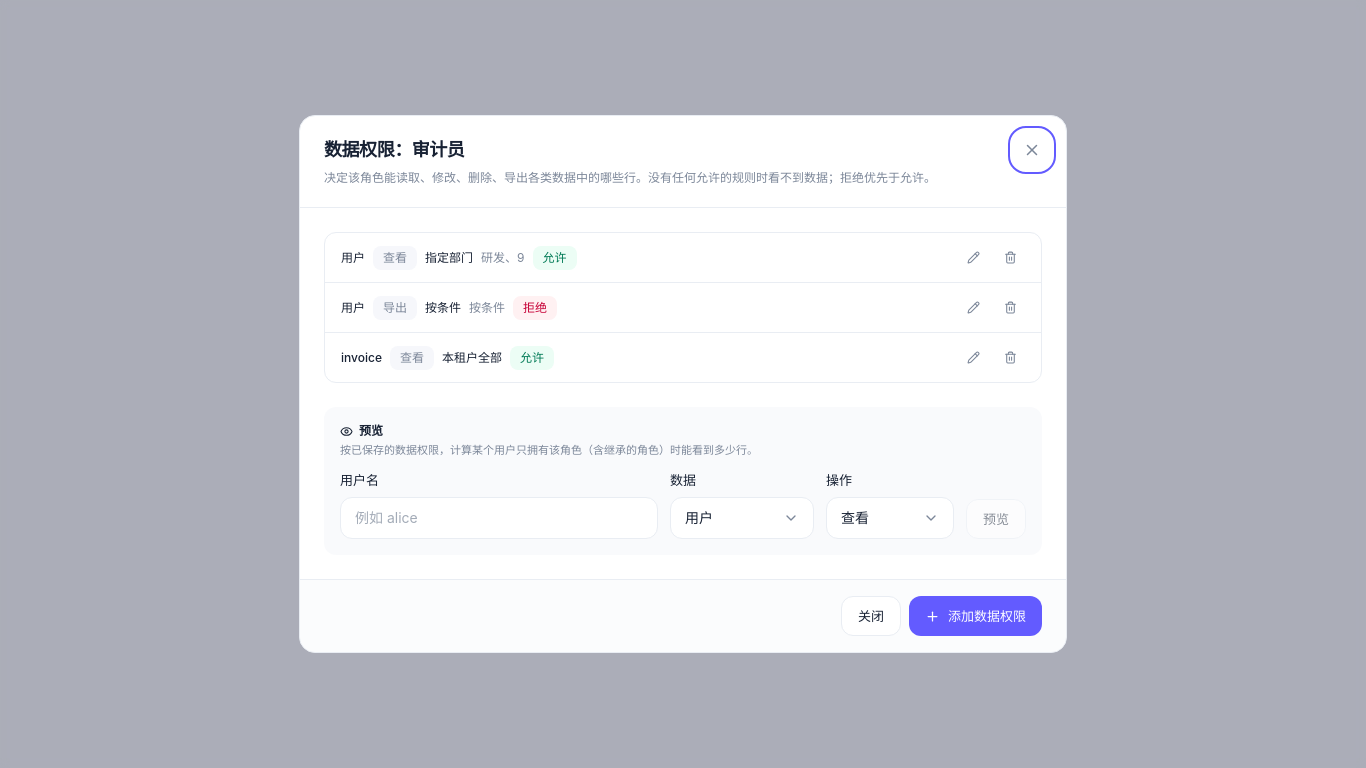
Test: role data policies › previews what a user would see with only this role
The width and height of the screenshot is (1366, 768).
Type "alice" into the field with placeholder "例如 alice".
click(499, 518); type("alice")  # box 340,497 -> 658,539
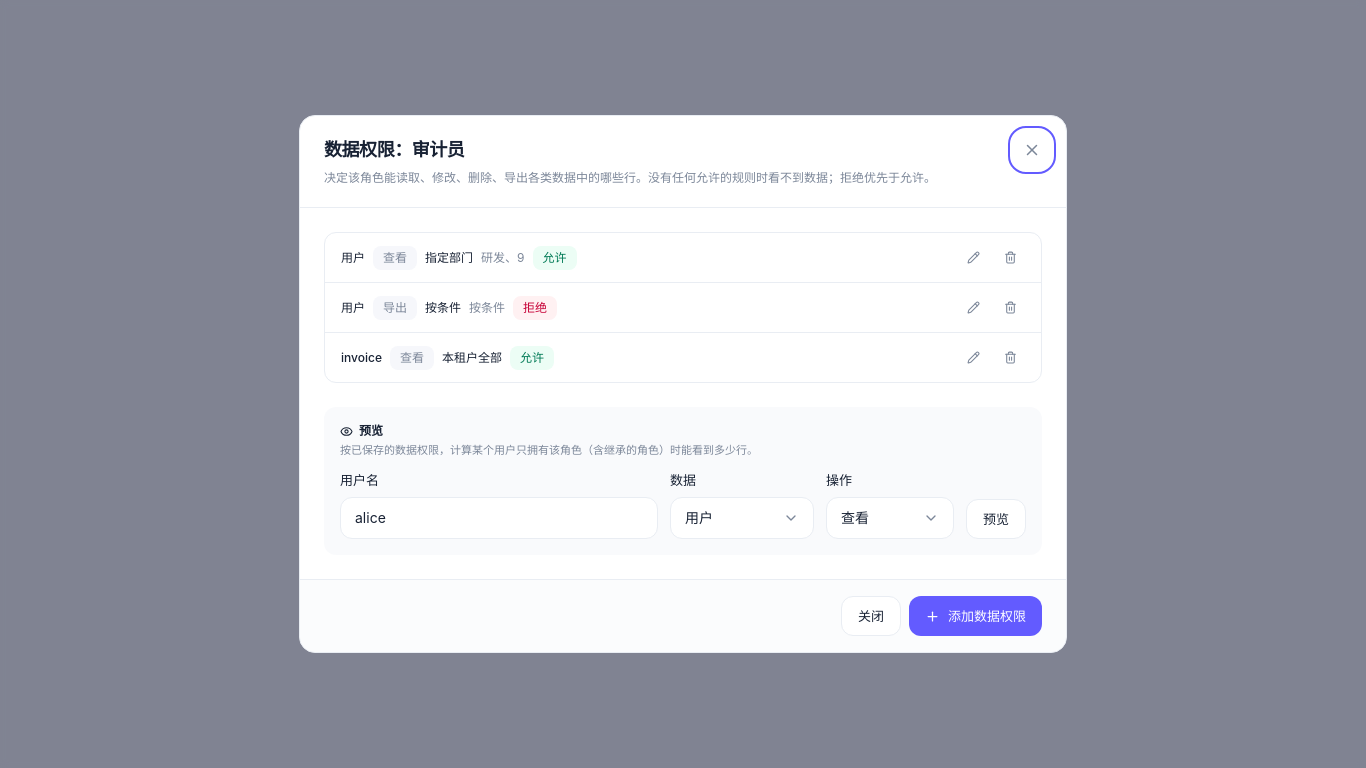
Click the button "预览".
click(996, 519)  # box 966,499 -> 1026,539
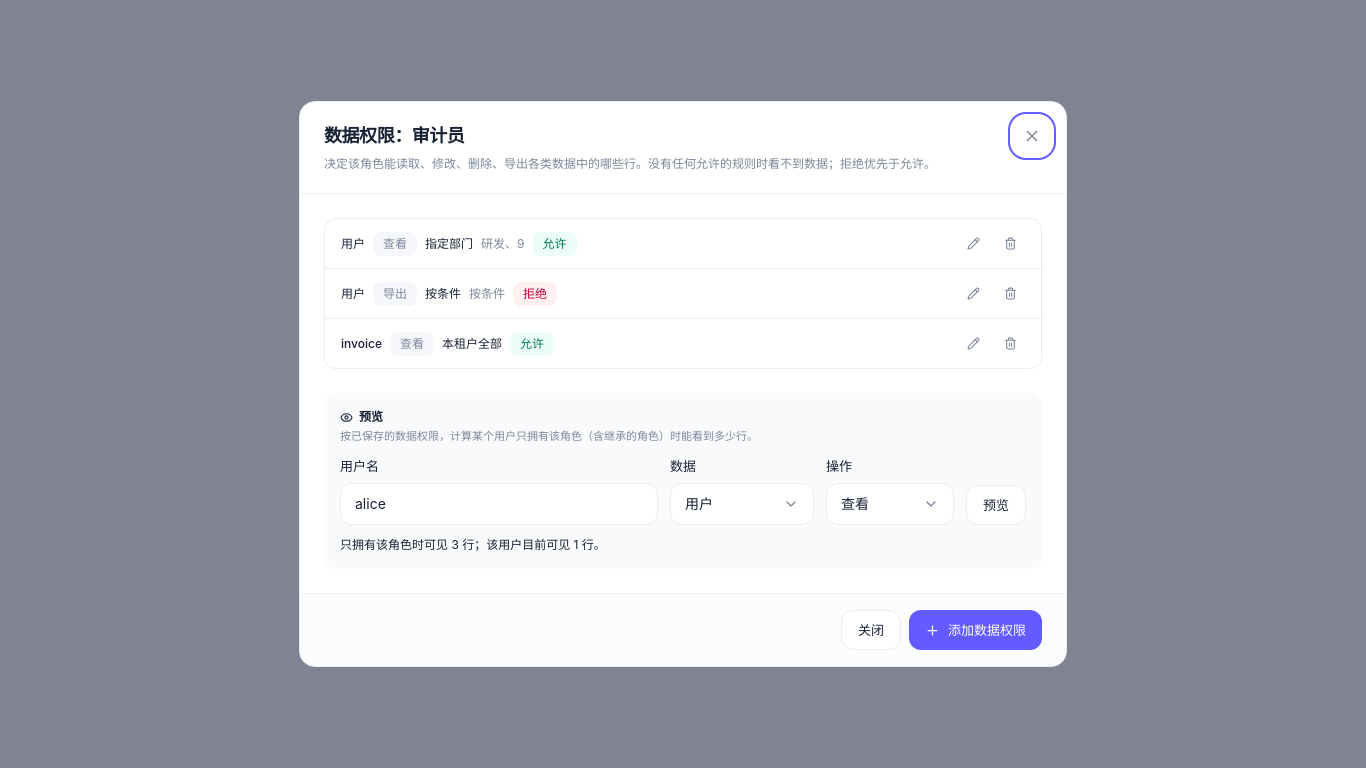
Expected: the message "只拥有该角色时可见 3 行；该用户目前可见 1 行。" is shown, 340,537 -> 606,552
Replace the text in the field with placeholder "例如 alice" with "nobody" at (499, 504), box 340,483 -> 658,525
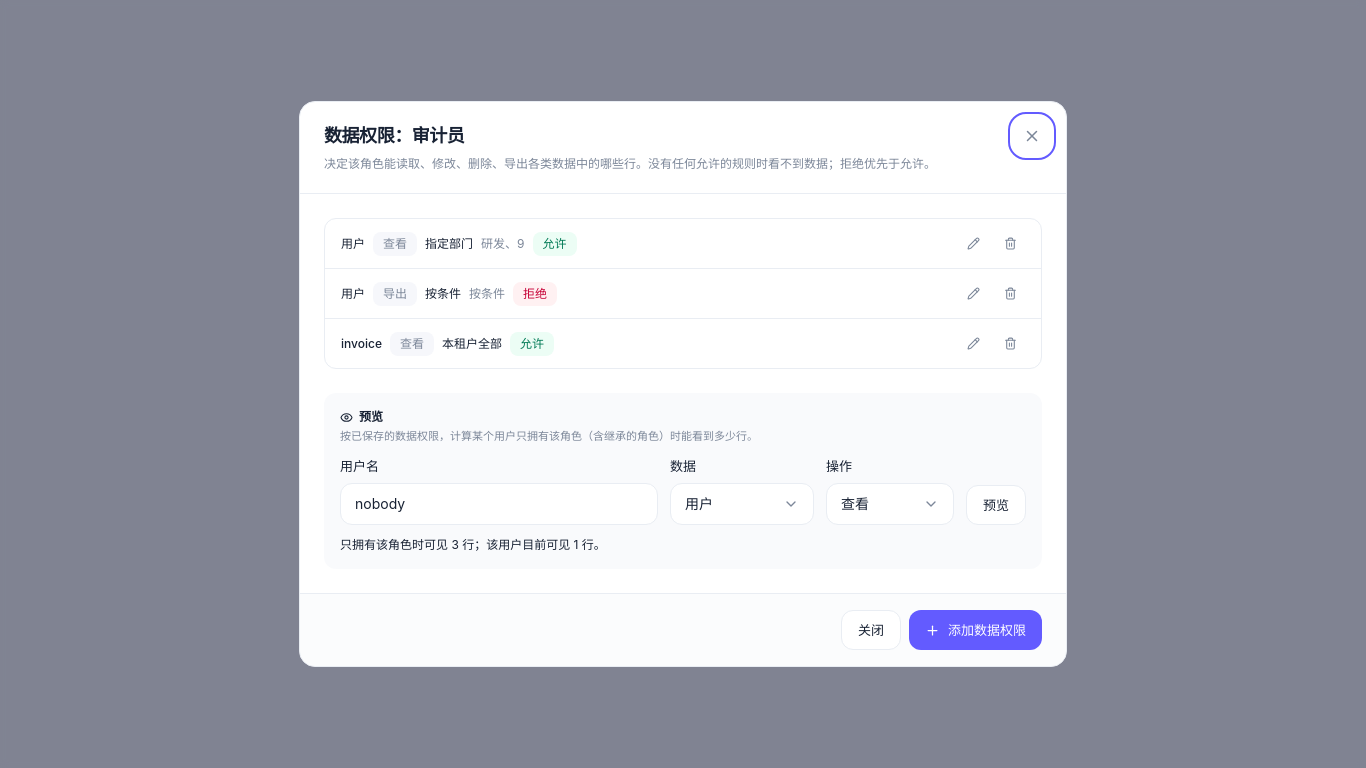
Click the button "预览".
click(996, 505)  # box 966,485 -> 1026,525
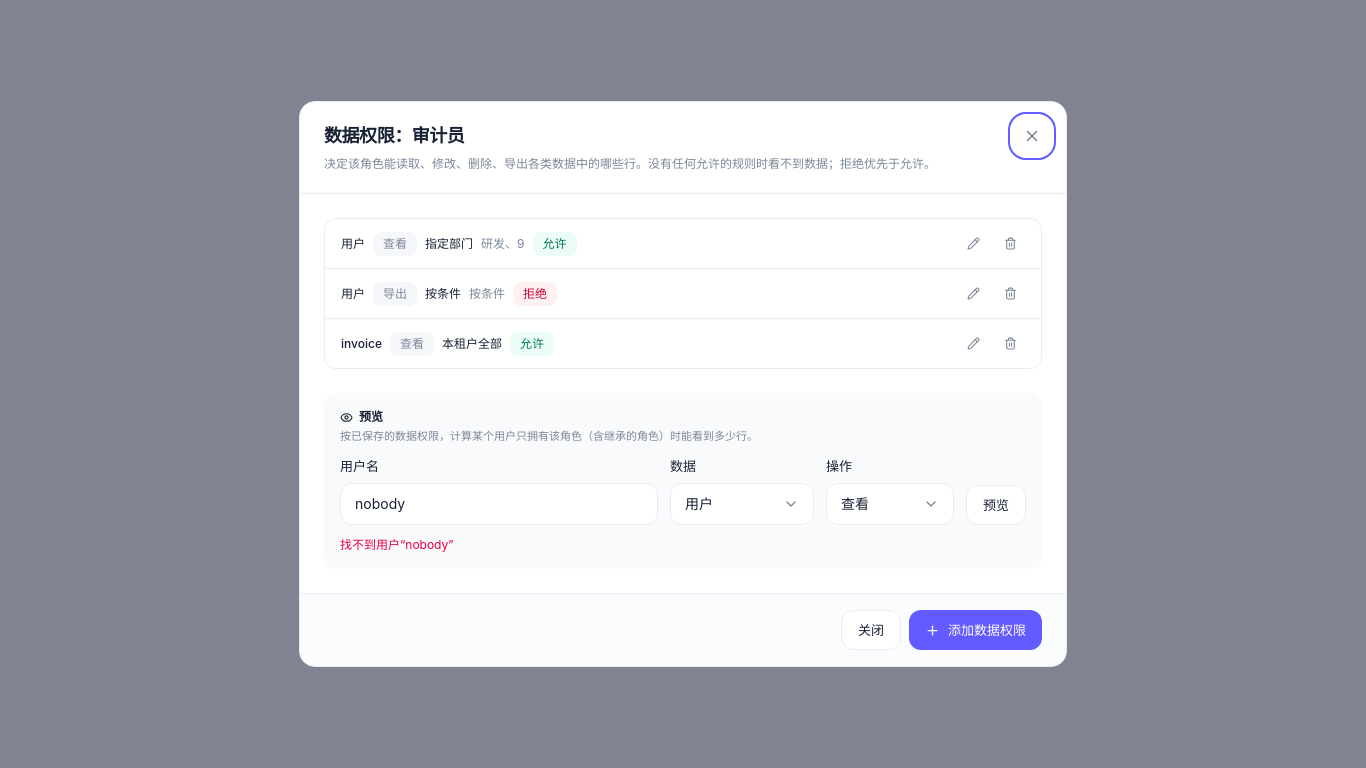
Expected: the text "找不到用户“nobody”" is shown, 340,537 -> 454,552
Click the button "预览".
click(996, 505)  # box 966,485 -> 1026,525
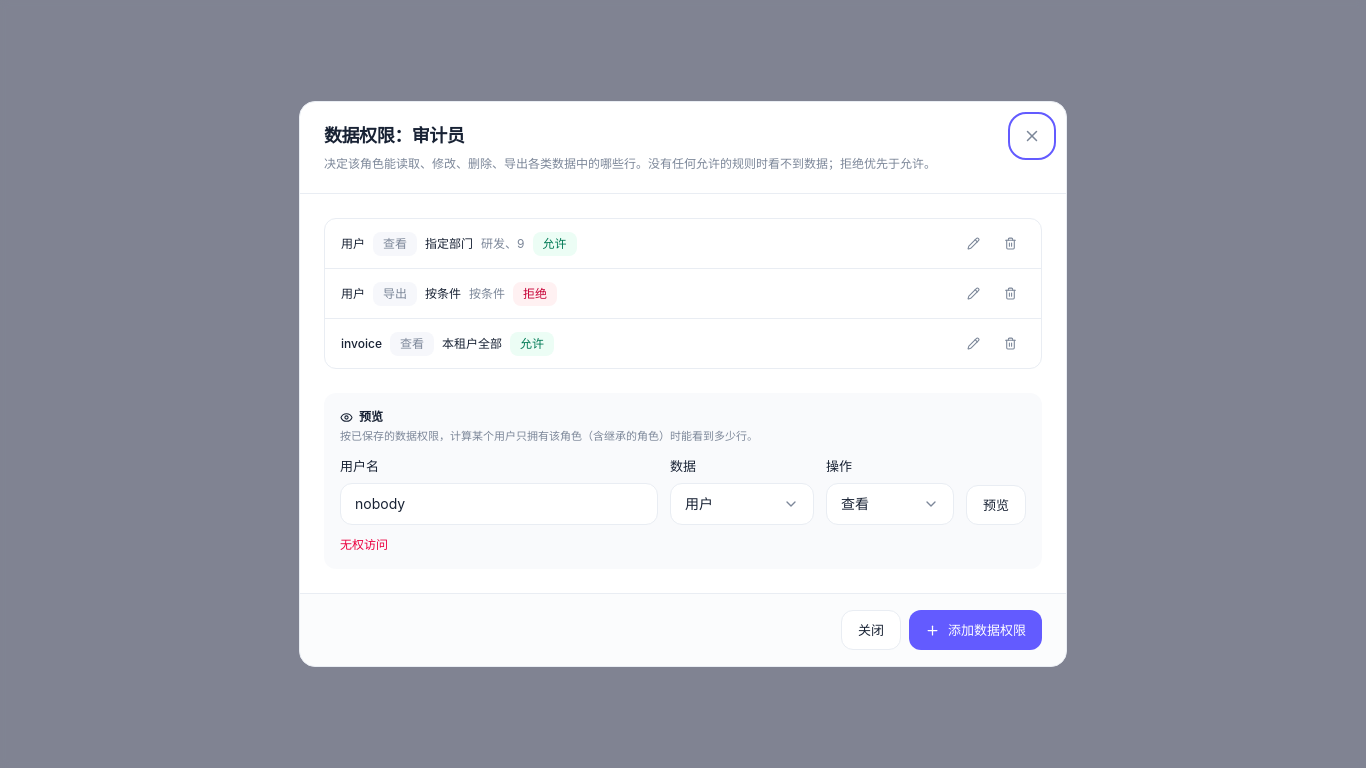
Expected: the text "无权访问" is shown, 340,537 -> 388,552
